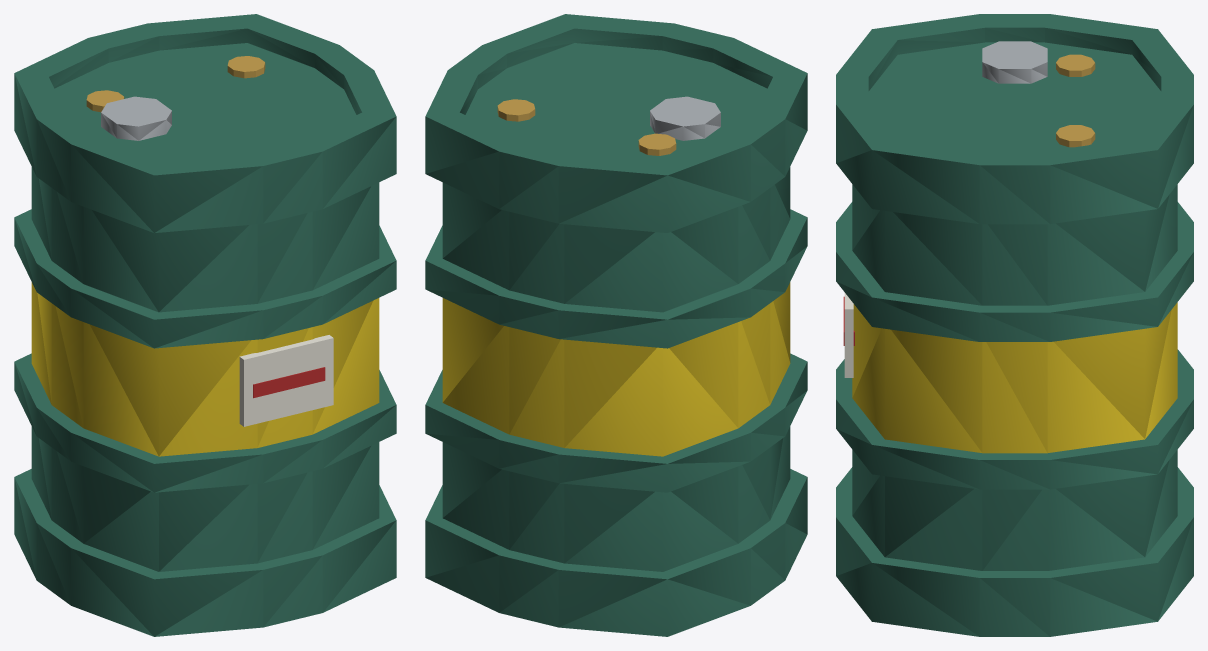
The model's file is barrel.glb.
3 views of the same model, side by side, from view 1: azimuth 30°, elevation 25°; view 2: azimuth 150°, elevation 25°; view 3: azimuth 270°, elevation 25° (orthographic). The views are drawn at different scales.
Visible parts, largest first — view 1: barrel; view 2: barrel; view 3: barrel.
Part boxes in pixels (x1=…): barrel: x1=14, y1=14, x2=396, y2=636; barrel: x1=425, y1=14, x2=807, y2=636; barrel: x1=836, y1=14, x2=1193, y2=636.
Bounding box in the file's own units: 0.2365 × 0.344 × 0.2365.
